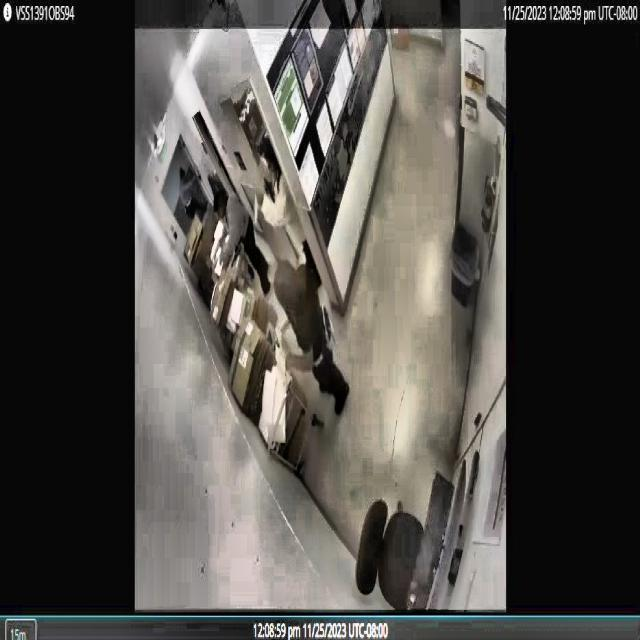not-gloved: (284, 344, 296, 382)
